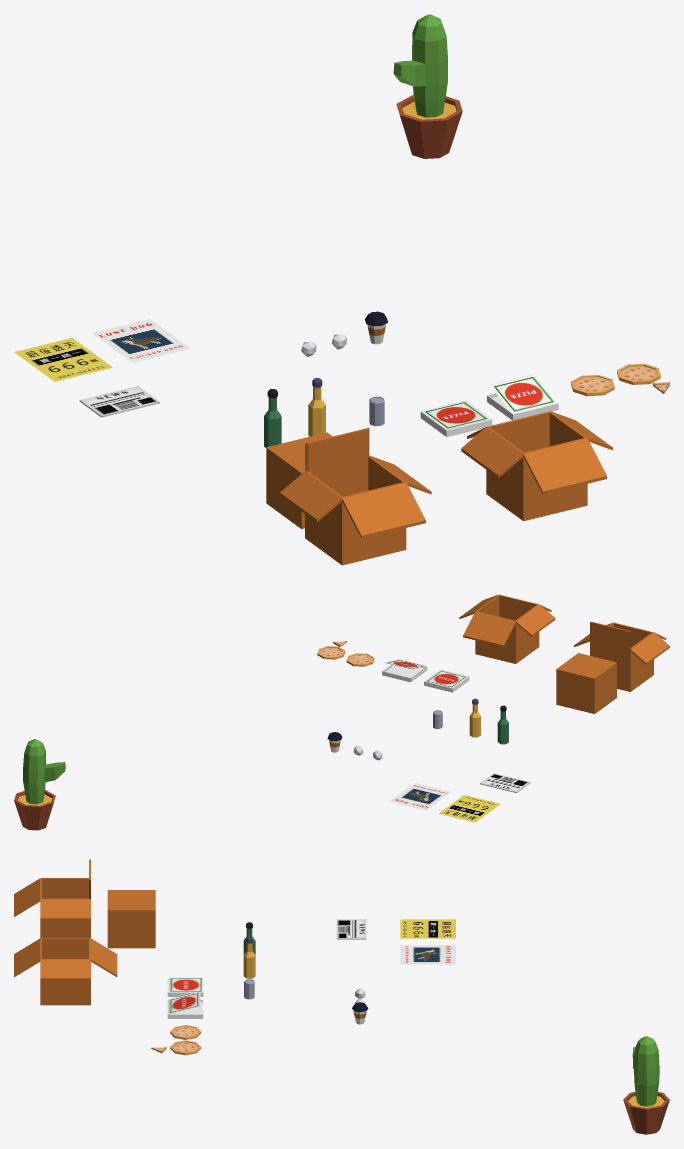
File: RDR_Props_2.fbx
3 views of the same model, one above another, from view 1: azimuth 30°, elevation 25°; view 2: azimuth 150°, elevation 25°; view 3: azimuth 270°, elevation 25° (orthographic). The views are drawn at different scales.
Visible parts, largest first — view 1: Cube.002, Cube.001, Cylinder.008, Cube.003, Plane, Plane.001, Cube.005, Cube.004, Plane.002, Cylinder.002, Cylinder.001; view 2: Cube.001, Cube.002, Cube.003, Cylinder.008, Plane, Plane.001, Cube.005, Cube.004, Plane.002, Cylinder.002, Cylinder.001; view 3: Cube.001, Cube.002, Cube.003, Cylinder.008, Plane, Plane.001, Cube.005, Cube.004, Plane.002, Cylinder.002.
Part boxes in pixels (left/top/right/bottom): Cube.002: left=280, top=428, right=431, bottom=565; Cube.001: left=461, top=411, right=612, bottom=521; Cylinder.008: left=393, top=14, right=462, bottom=158; Cube.003: left=266, top=432, right=332, bottom=528; Plane: left=92, top=319, right=190, bottom=362; Plane.001: left=14, top=338, right=112, bottom=381; Cube.005: left=487, top=374, right=558, bottom=420; Cube.004: left=420, top=400, right=492, bottom=436; Plane.002: left=79, top=386, right=159, bottom=417; Cylinder.002: left=308, top=378, right=325, bottom=436; Cylinder.001: left=264, top=389, right=281, bottom=447; Cube.001: left=459, top=594, right=555, bottom=663; Cube.002: left=574, top=622, right=669, bottom=691; Cube.003: left=556, top=653, right=616, bottom=713; Cylinder.008: left=14, top=739, right=65, bottom=830; Plane: left=389, top=783, right=451, bottom=810; Plane.001: left=438, top=795, right=500, bottom=822; Cube.005: left=382, top=659, right=427, bottom=682; Cube.004: left=424, top=669, right=469, bottom=692; Plane.002: left=480, top=773, right=530, bottom=792; Cylinder.002: left=469, top=698, right=480, bottom=737; Cylinder.001: left=497, top=705, right=508, bottom=744; Cube.001: left=14, top=938, right=117, bottom=1005; Cube.002: left=14, top=859, right=90, bottom=938; Cube.003: left=107, top=890, right=155, bottom=948; Cylinder.008: left=623, top=1036, right=669, bottom=1134; Plane: left=400, top=945, right=455, bottom=964; Plane.001: left=400, top=919, right=455, bottom=938; Cube.005: left=167, top=991, right=203, bottom=1018; Cube.004: left=167, top=977, right=203, bottom=996; Plane.002: left=336, top=919, right=366, bottom=939; Cylinder.002: left=243, top=937, right=255, bottom=978.
Size of the model in its own units: 365 by 81.14 by 519.
